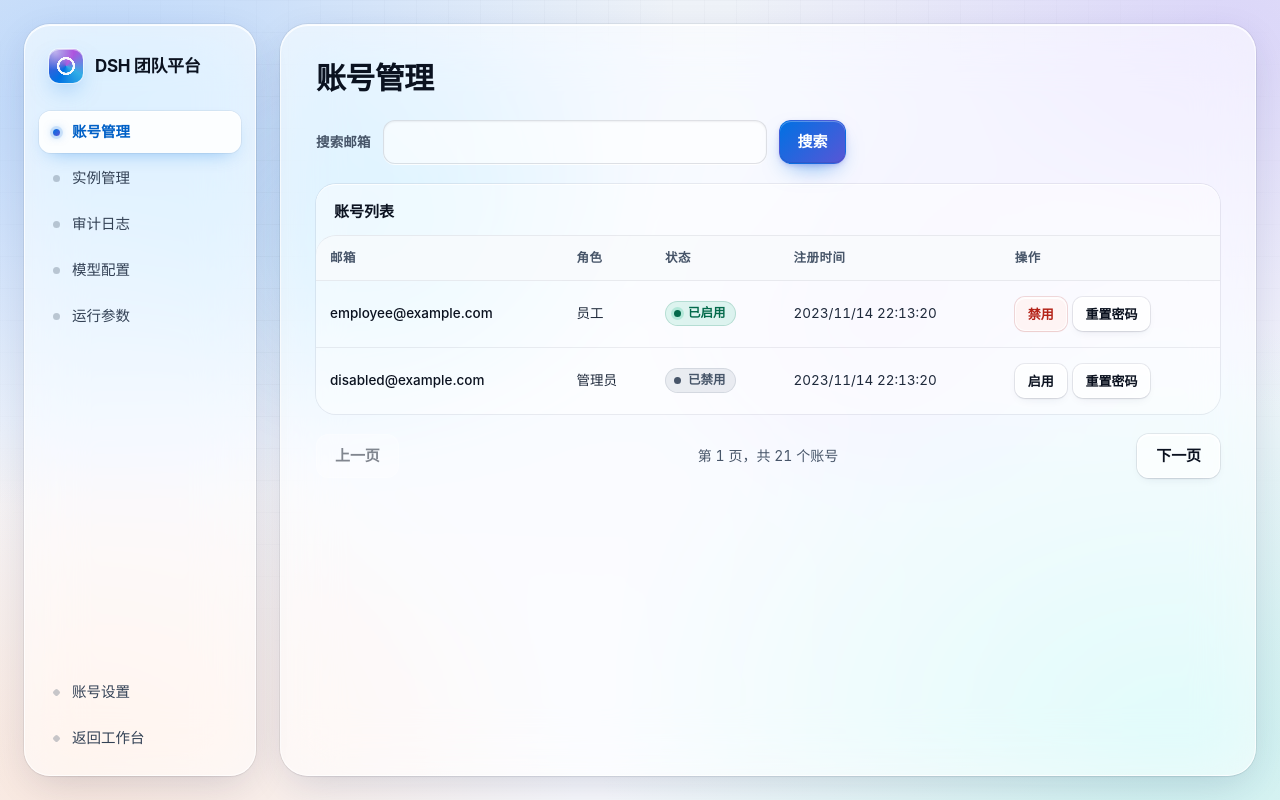
Test: returns to the previous page through the same server query
Click the button "下一页": click(1179, 456) [1137,434,1220,478]
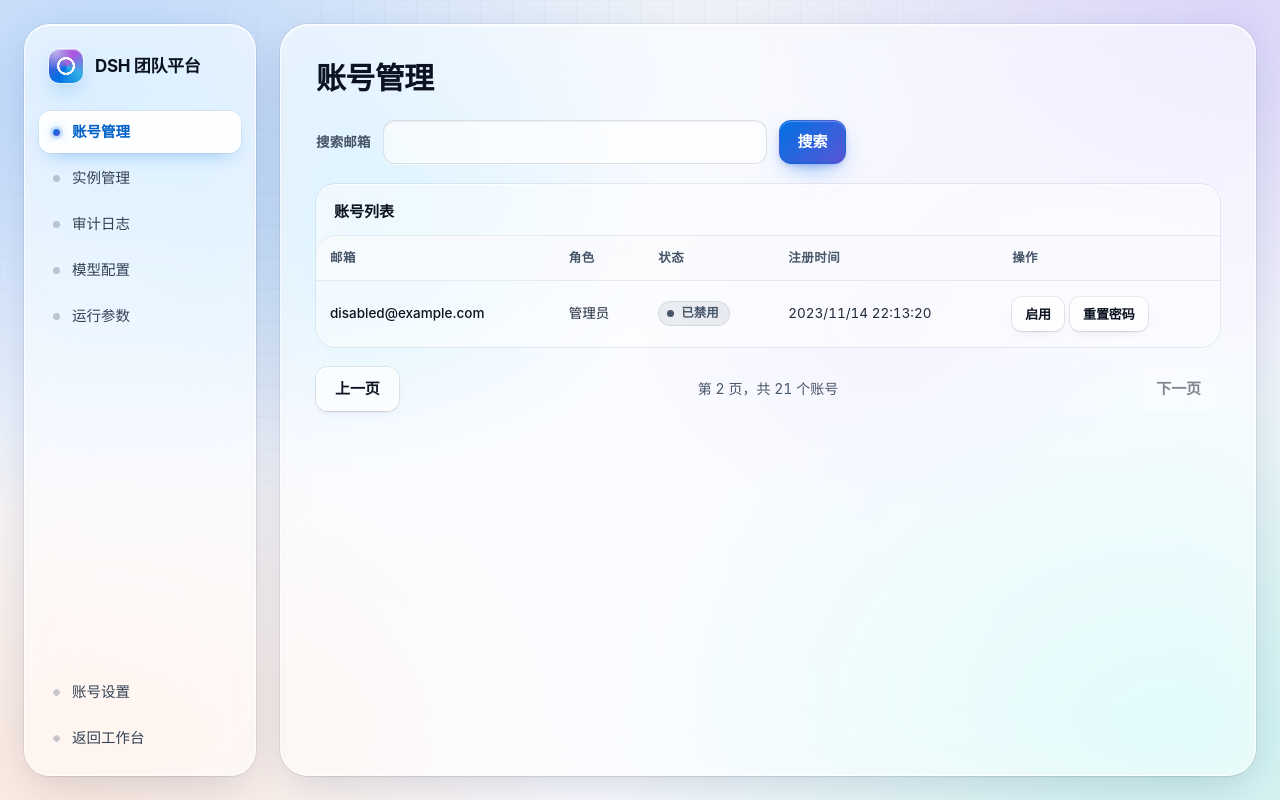
Click the button "上一页": click(357, 389) [316,367,399,411]
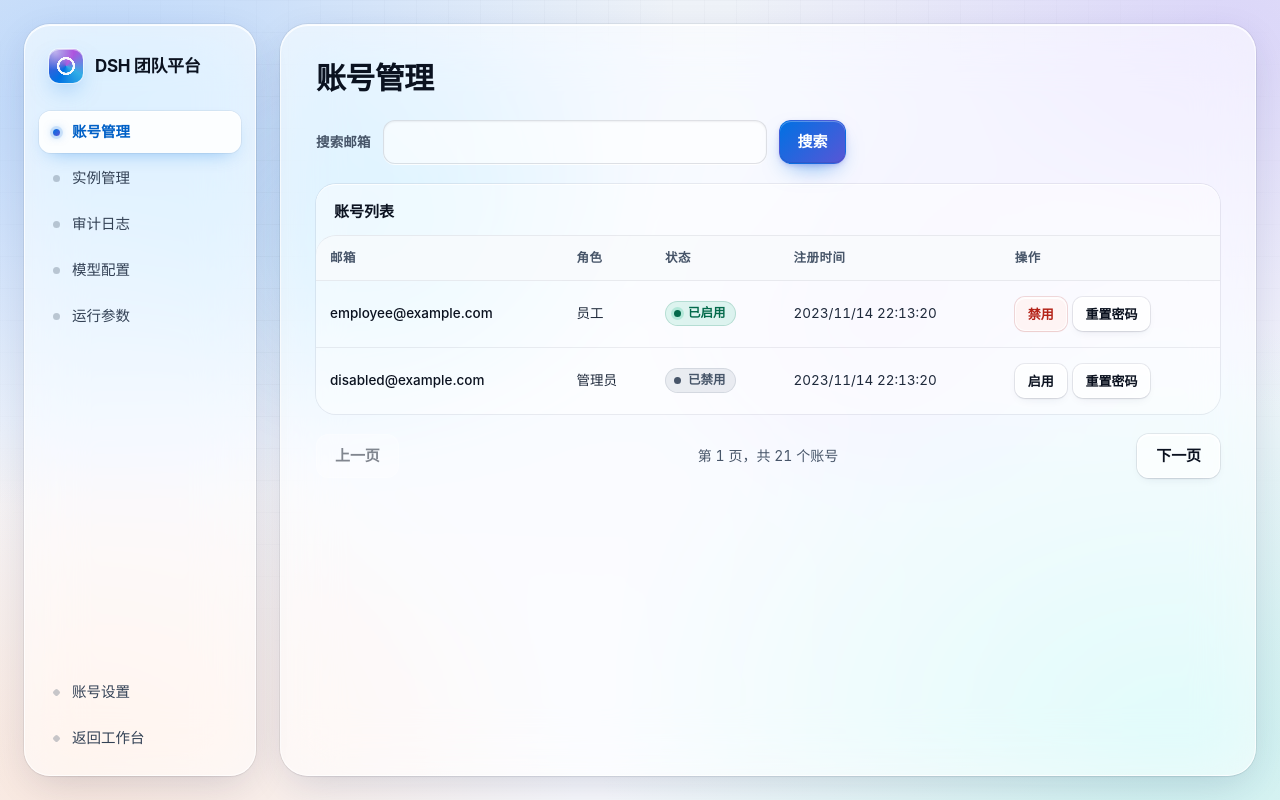
Expected: the text "第 1 页" is shown, [698,445,838,466]
